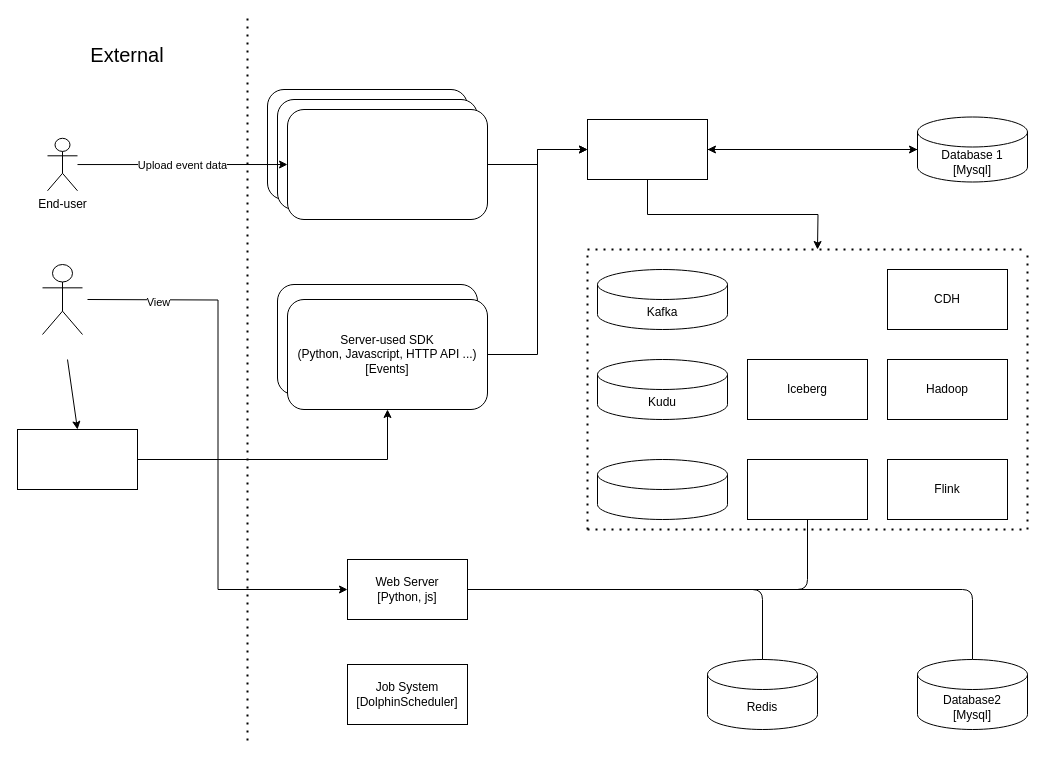
The diagram is 1047 pixels wide and 759 high, and some of its shapes have lost their labels. Here are the shapes that lost their labels. From the top down, the centre of each, then its label:
At point 387,164: "Client SDK (Android, iOS, Unity ...) [Events/User Attribute]".
At point 647,149: "API Server [Python]".
At point 62,299: "User".
At point 77,459: "Client's private systems".
At point 662,489: "HDFS".
At point 807,489: "Trino".
